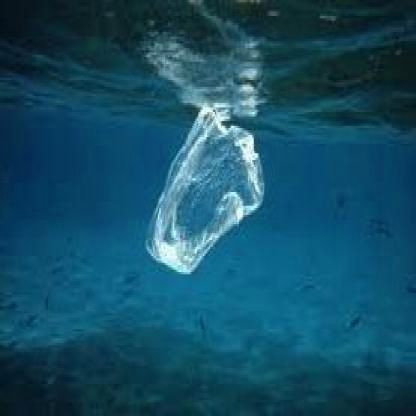pbag: (144, 105, 266, 274)
